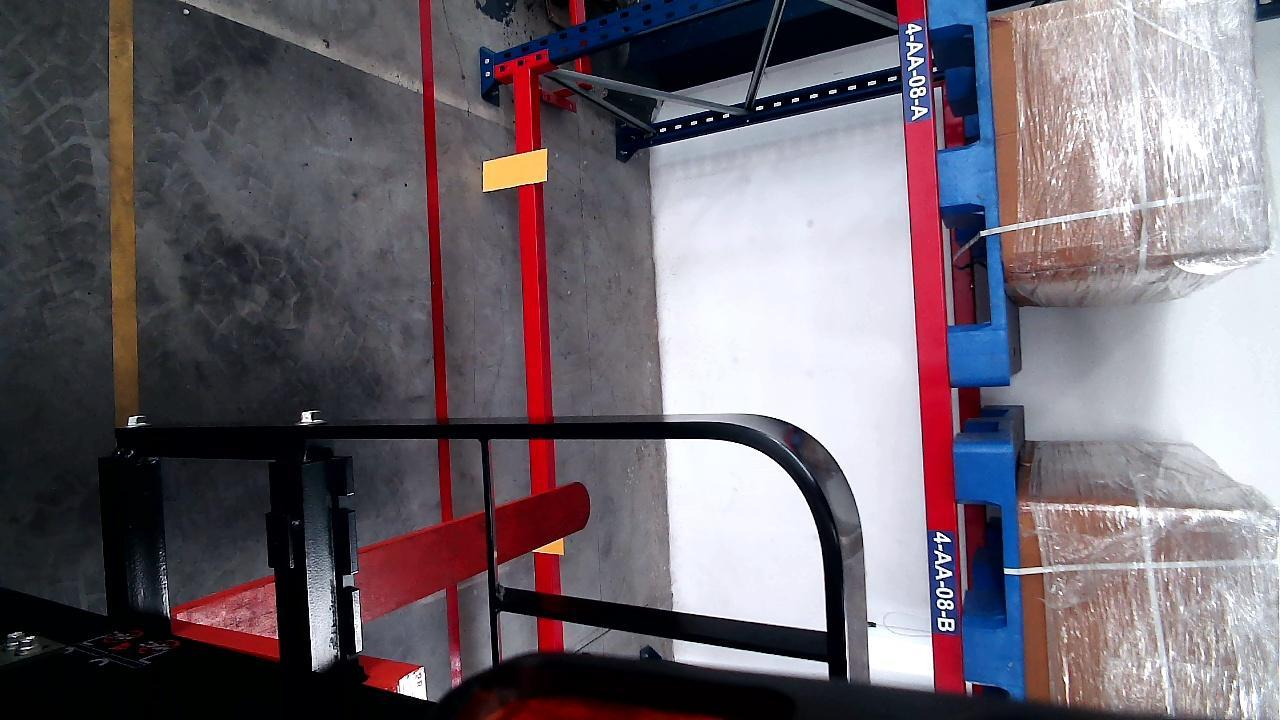red_line: (417, 1, 471, 685)
